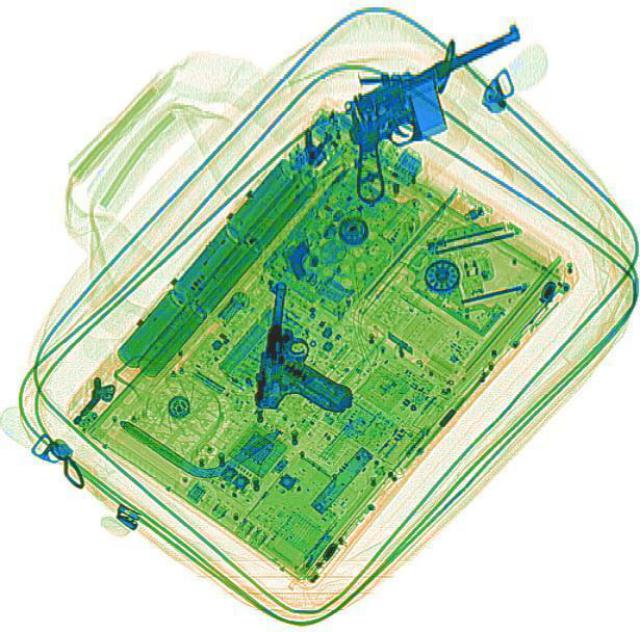Gun: (311, 22, 563, 203), (250, 277, 368, 417)
